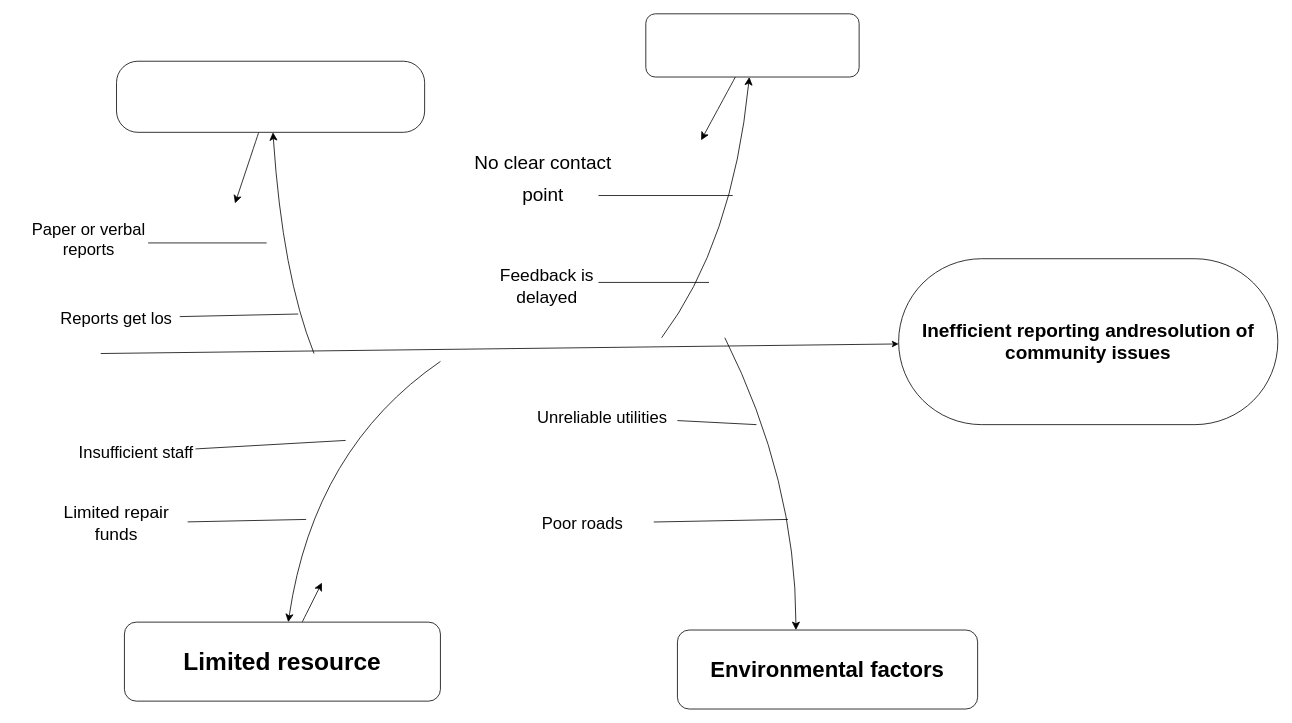
Image size: 1292x723. Some labels were removed from this diagram. The centre of each missing label's shape, as x and y in pixels:
"Manual reporting process" belongs at point (270, 96).
"Poor communication" belongs at point (752, 45).
